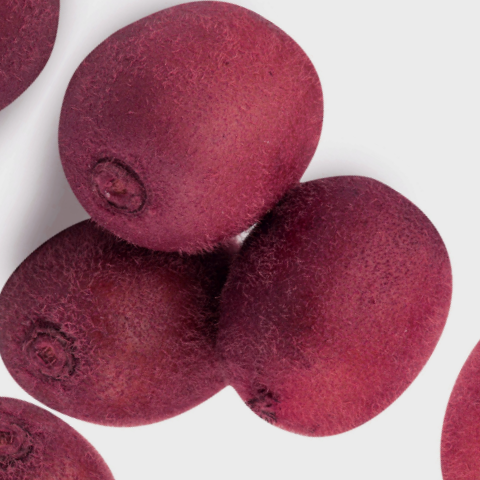kiwi: (0, 0, 384, 332), (167, 112, 480, 480), (0, 131, 294, 467)
